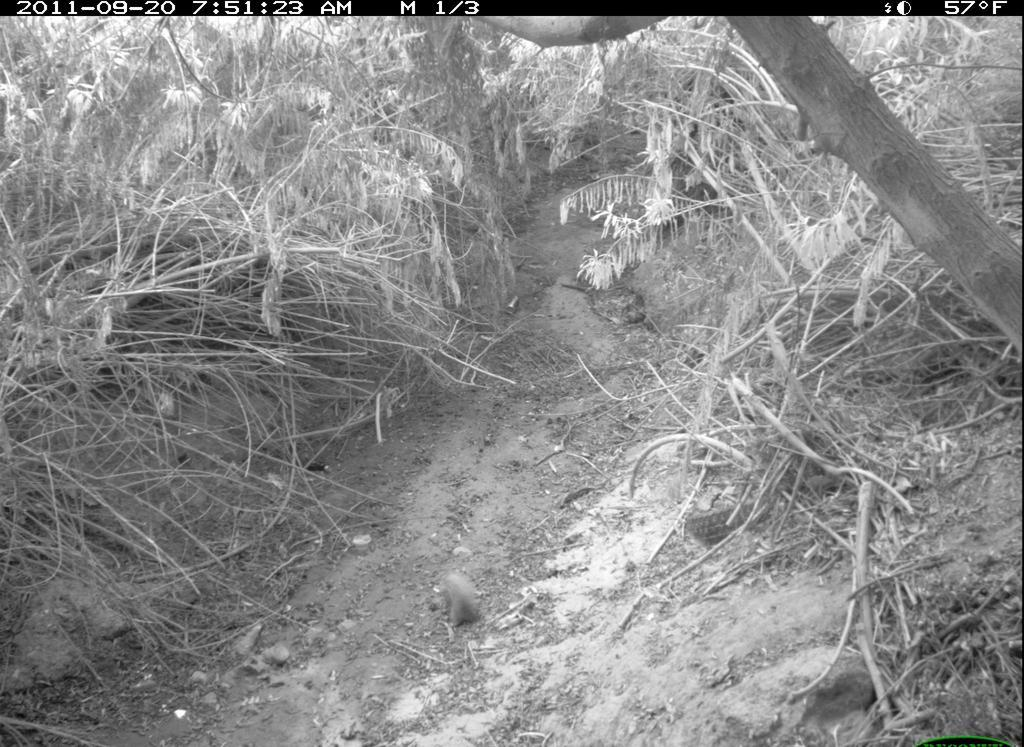squirrel: (429, 565, 487, 632)
